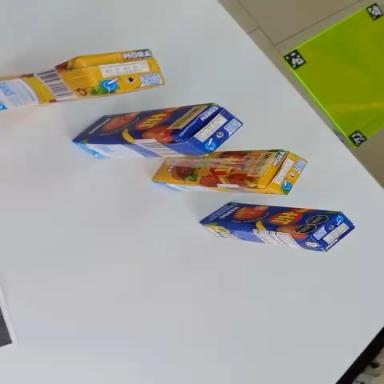HIT-MANGO: (71, 101, 244, 165), (198, 199, 356, 254)
HIT-MORA: (0, 45, 166, 109), (152, 146, 307, 195)
cara_F: (70, 103, 214, 142), (199, 199, 341, 238), (151, 149, 282, 187)
